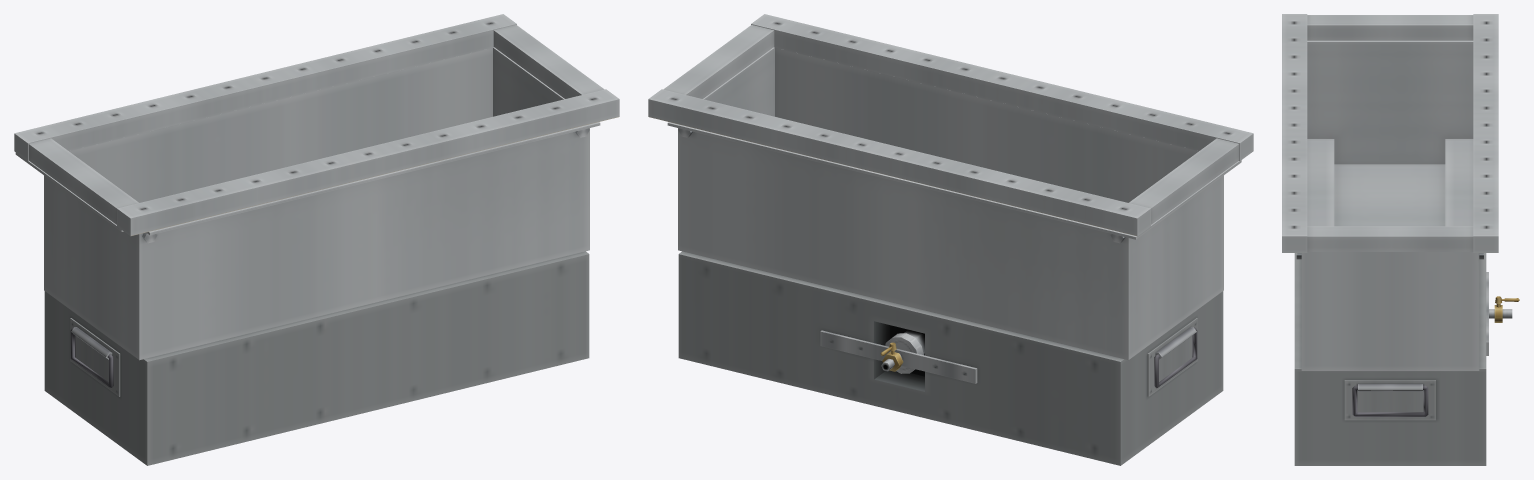
File: jsf_ChocolateBananaMachine.fbx
3 views of the same model, side by side, from view 1: azimuth 30°, elevation 25°; view 2: azimuth 150°, elevation 25°; view 3: azimuth 270°, elevation 25° (orthographic). The views are drawn at different scales.
Parts seen in each view (by area): view 1: Body, Lid; view 2: Body, Lid; view 3: Body, Lid, Handle_02.
Part boxes in pixels (x1,y1,x2,y2): Body: [15, 47, 600, 465]; Lid: [14, 14, 619, 236]; Body: [667, 47, 1241, 465]; Lid: [648, 14, 1253, 236]; Body: [1294, 40, 1512, 465]; Lid: [1282, 14, 1498, 252]; Handle_02: [1352, 385, 1428, 416].
Bounding box in the file's own units: 75.79 × 38.22 × 34.27.
